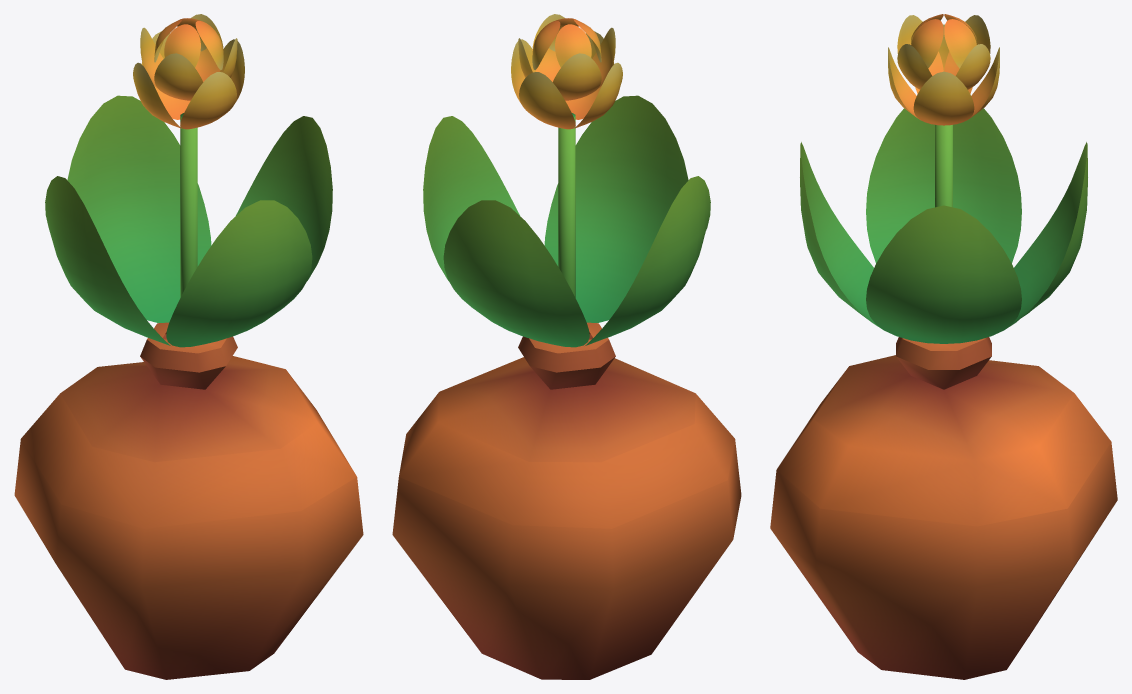
Rendered from Puzzle_Flower.obj.
3 renders of one model, left to right at view 1: azimuth 30°, elevation 25°; view 2: azimuth 150°, elevation 25°; view 3: azimuth 270°, elevation 25°, orthographic.
Parts seen in each view (by area): view 1: Plane.004; view 2: Plane.004; view 3: Plane.004.
Part boxes in pixels (<box>): Plane.004: <box>14,14,363,679</box>; Plane.004: <box>392,14,741,679</box>; Plane.004: <box>770,14,1117,679</box>.
Bounding box in the file's own units: 0.6145 × 1.22 × 0.6145.
2 materials, 2 textured.
